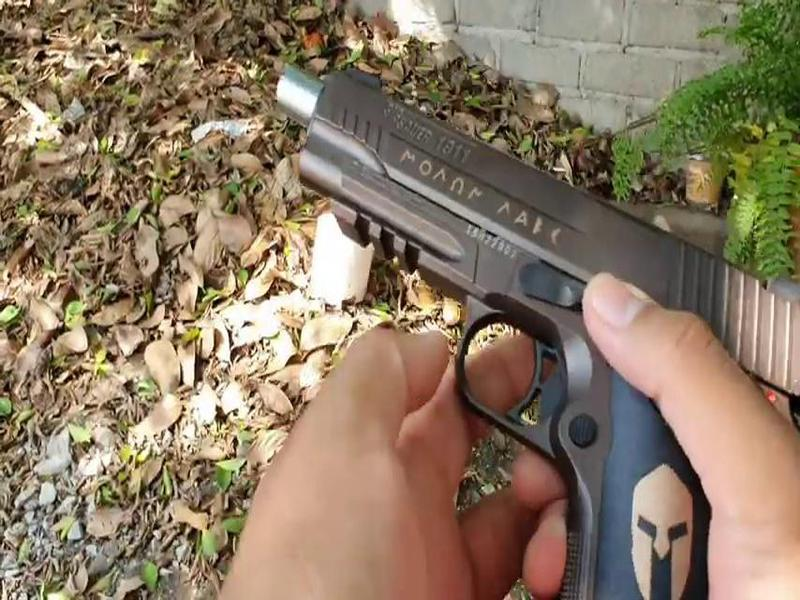Pistola: (213, 35, 780, 584)
